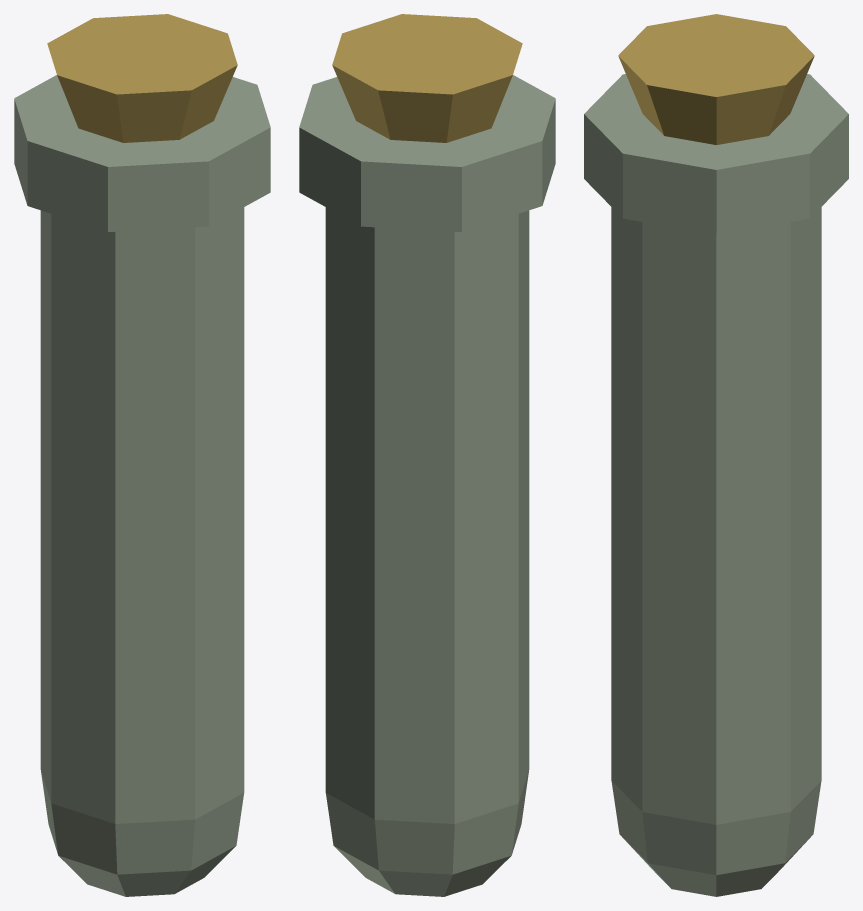
Rendered from Antidote.fbx.
3 views of the same model, side by side, from view 1: azimuth 30°, elevation 25°; view 2: azimuth 150°, elevation 25°; view 3: azimuth 270°, elevation 25° (orthographic).
Parts seen in each view (by area): view 1: Antidote; view 2: Antidote; view 3: Antidote.
Part boxes in pixels (x1,y1,x2,y2): Antidote: [14, 14, 270, 896]; Antidote: [299, 14, 555, 896]; Antidote: [584, 14, 848, 896].
Bounding box in the file's own units: 220 × 746 × 220.
